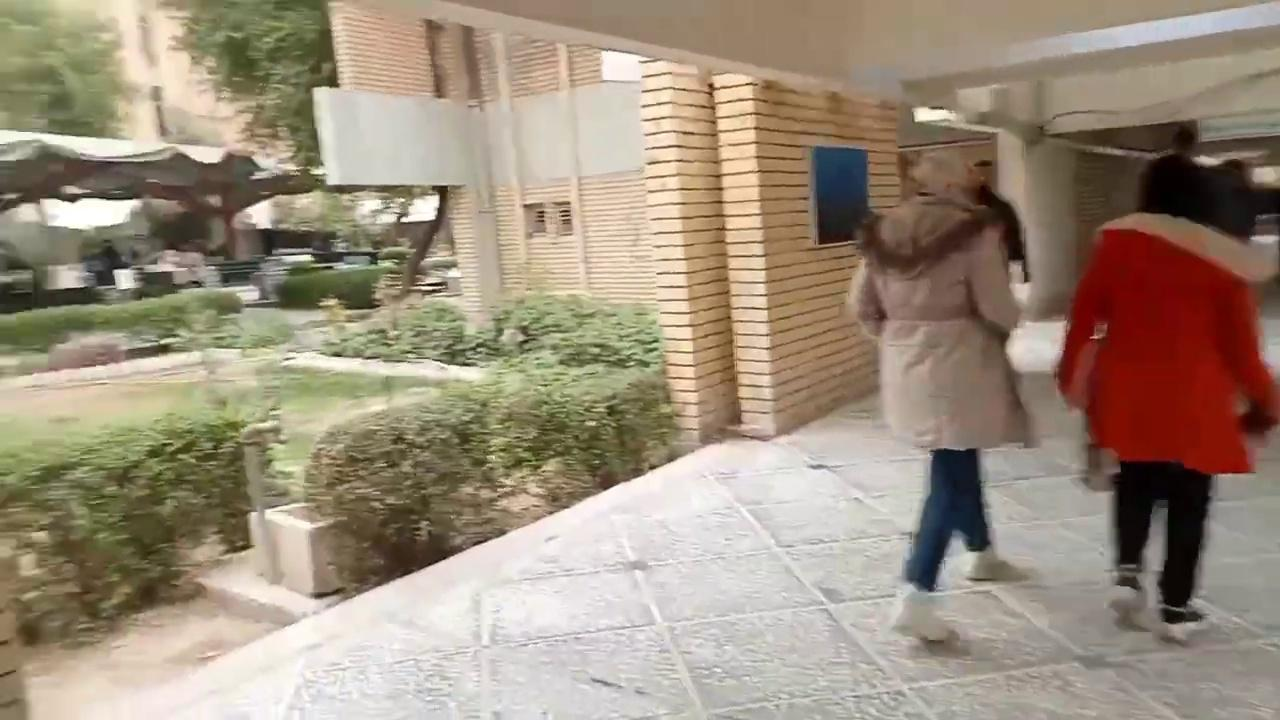person: (1054, 152, 1279, 626), (850, 146, 1038, 641)
tree: (301, 289, 679, 595), (164, 0, 452, 296), (6, 399, 258, 650), (166, 0, 336, 174), (0, 0, 130, 138)
